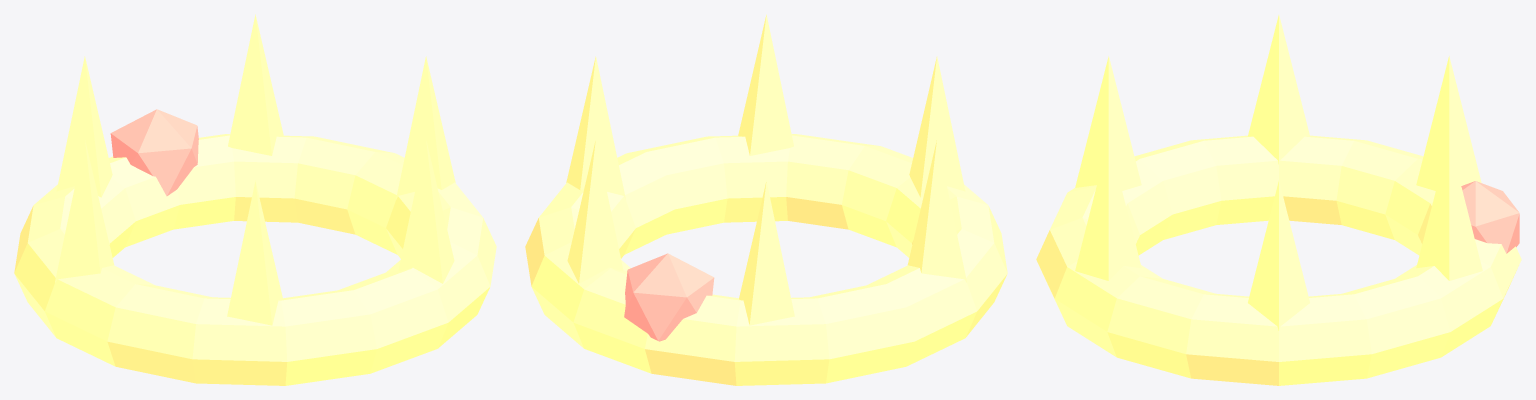
File: crown.glb
3 views of the same model, side by side, from view 1: azimuth 30°, elevation 25°; view 2: azimuth 150°, elevation 25°; view 3: azimuth 270°, elevation 25° (orthographic).
Parts seen in each view (by area): view 1: CrownBand; view 2: CrownBand; view 3: CrownBand.
Part boxes in pixels (x1=…): CrownBand: x1=14, y1=14, x2=496, y2=385; CrownBand: x1=525, y1=14, x2=1007, y2=385; CrownBand: x1=1036, y1=15, x2=1521, y2=385.
Bounding box in the file's own units: 0.84 × 0.39 × 0.84.
